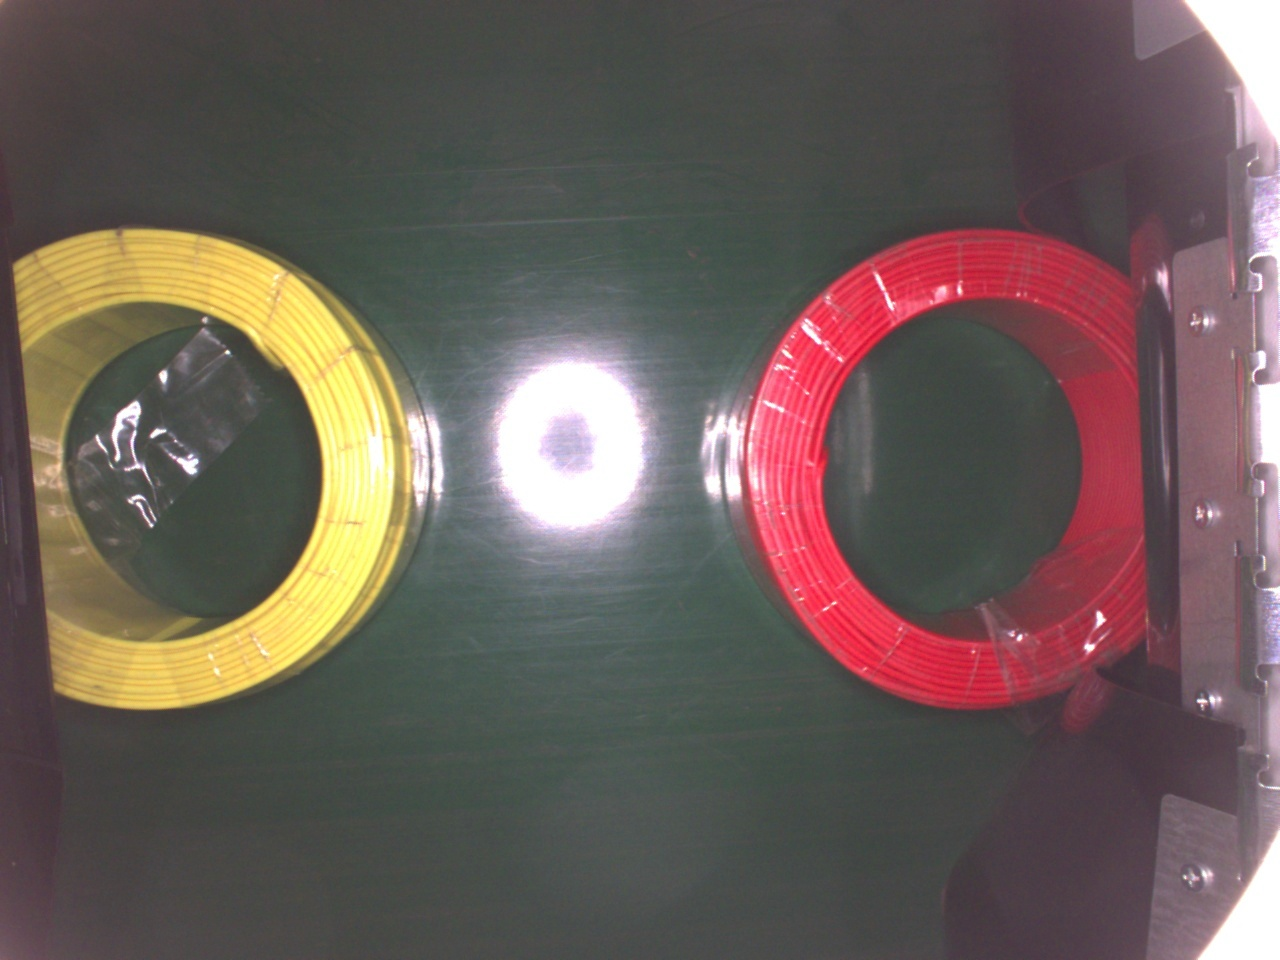red: (726, 227, 1146, 709)
yellow: (13, 225, 434, 717)
